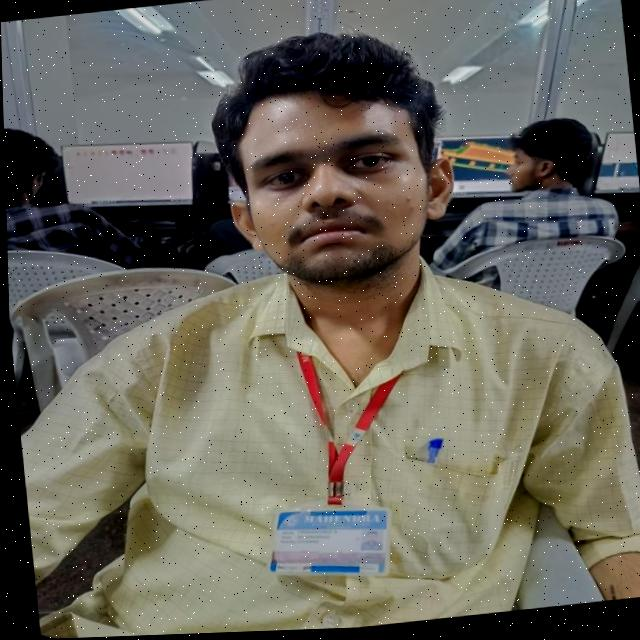id_card: (239, 330, 416, 596)
